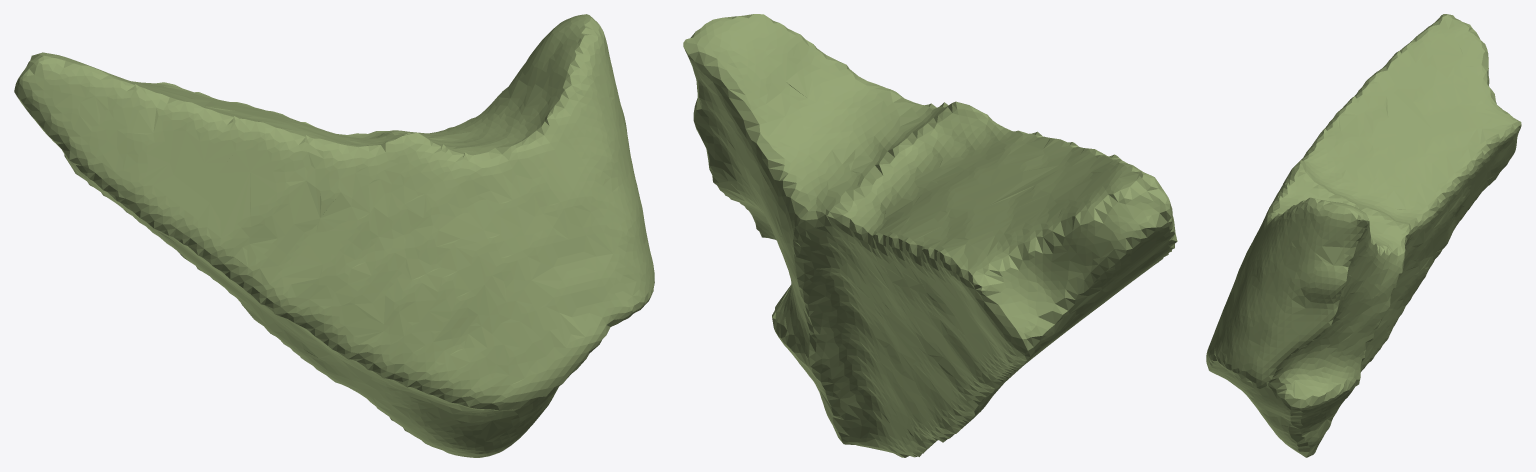
The model's file is Model_10031_LH__Area_4_of_cortex__parts_a_and_b_(primary_motor)_(A4ab).obj.
The picture shows the model from 3 angles, left to right: view 1: azimuth 30°, elevation 25°; view 2: azimuth 150°, elevation 25°; view 3: azimuth 270°, elevation 25°; orthographic projection. The views are drawn at different scales.
Size of the model in its own units: 6.04 by 4.58 by 4.25.
